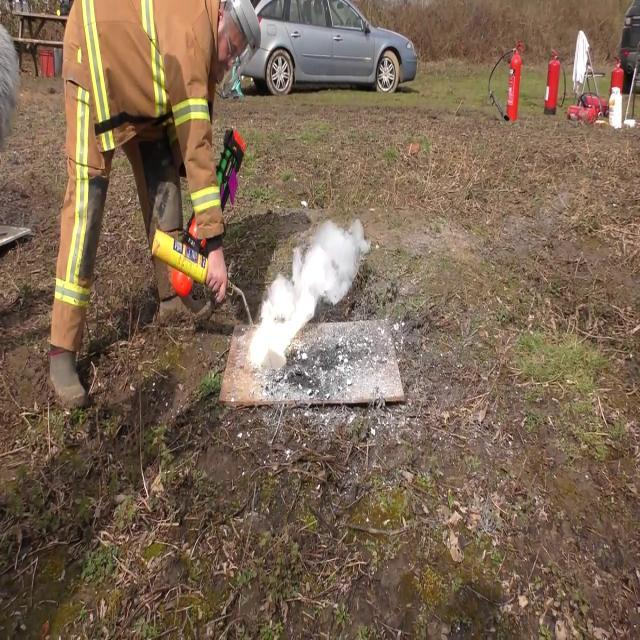Smoke: (242, 208, 372, 365)
